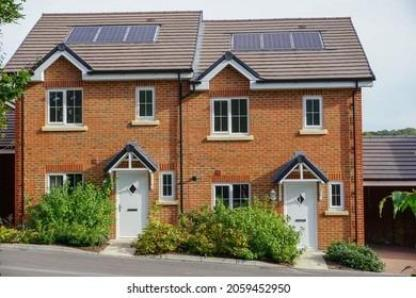door: (277, 178, 323, 259), (110, 168, 153, 253)
